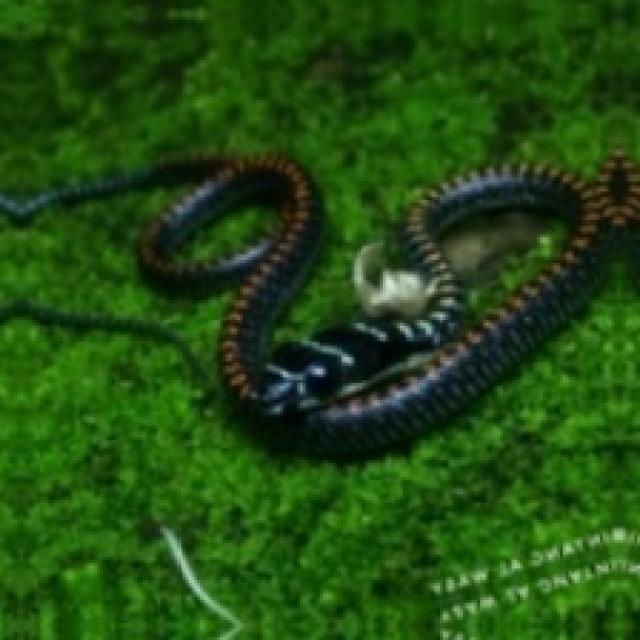paradise tree snake: (0, 149, 637, 454), (437, 209, 569, 314), (171, 197, 280, 263)
